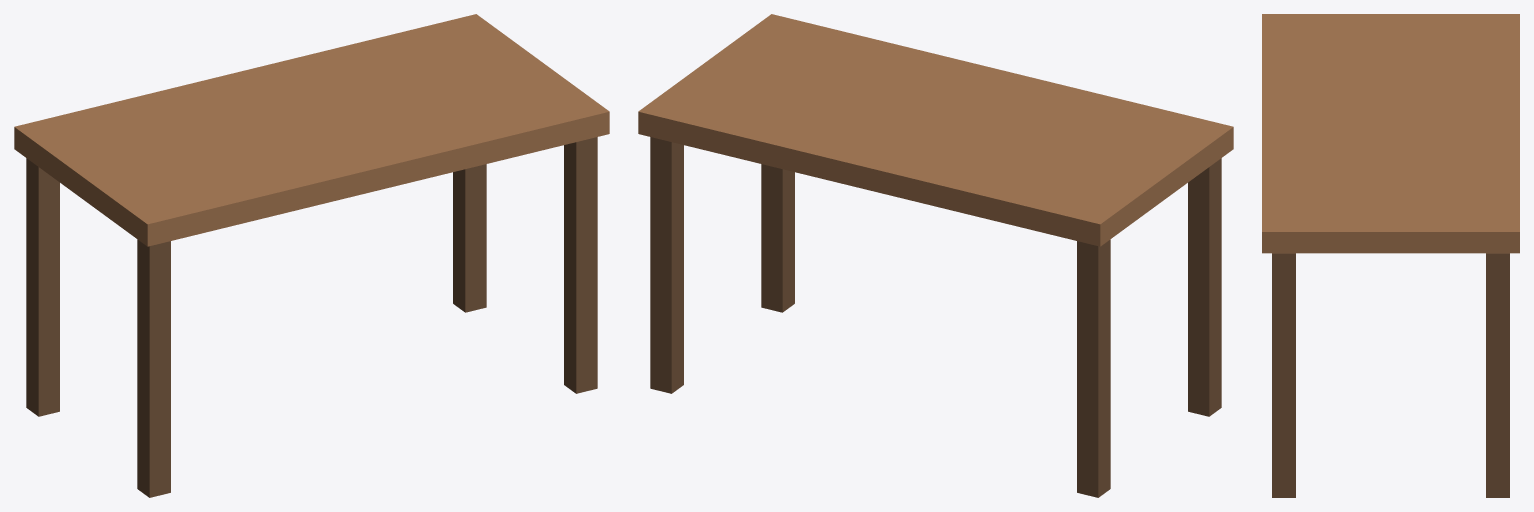
The model's file is desk.glb.
3 renders of one model, left to right at view 1: azimuth 30°, elevation 25°; view 2: azimuth 150°, elevation 25°; view 3: azimuth 270°, elevation 25°, orthographic. The views are drawn at different scales.
Visible parts, largest first — view 1: furniture; view 2: furniture; view 3: furniture.
Boxes of the visible parts, left/top/right/bottom form: furniture: left=14, top=14, right=609, bottom=497; furniture: left=638, top=14, right=1233, bottom=497; furniture: left=1262, top=14, right=1519, bottom=497.
Bounding box in the file's own units: 1.3 × 0.75 × 0.65.
